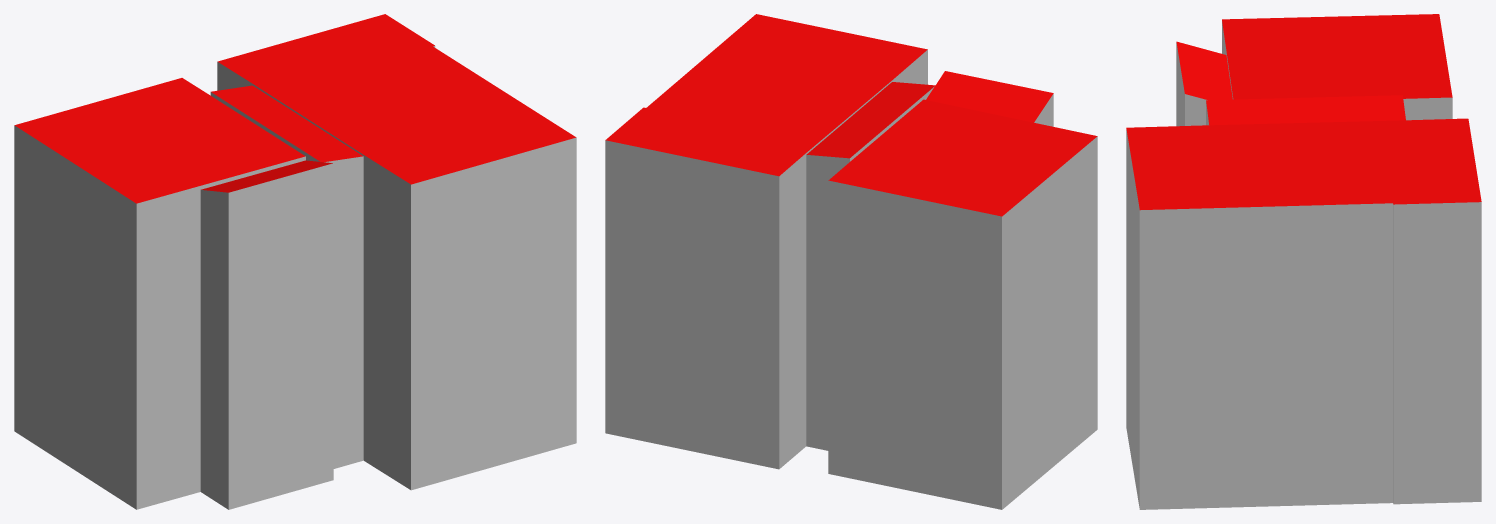
3 renders of one model, left to right at view 1: azimuth 30°, elevation 25°; view 2: azimuth 150°, elevation 25°; view 3: azimuth 270°, elevation 25°, orthographic. The views are drawn at different scales.
Bounding box in the file's own units: 18.66 × 13.81 × 14.31.
